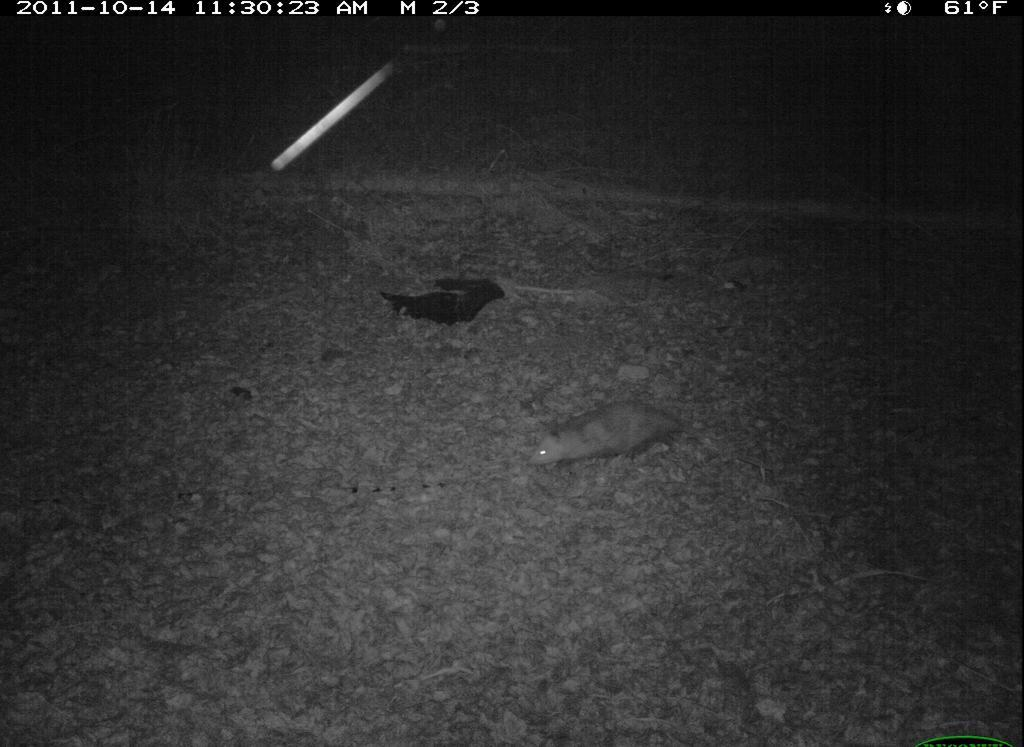opossum: (527, 397, 739, 478)
